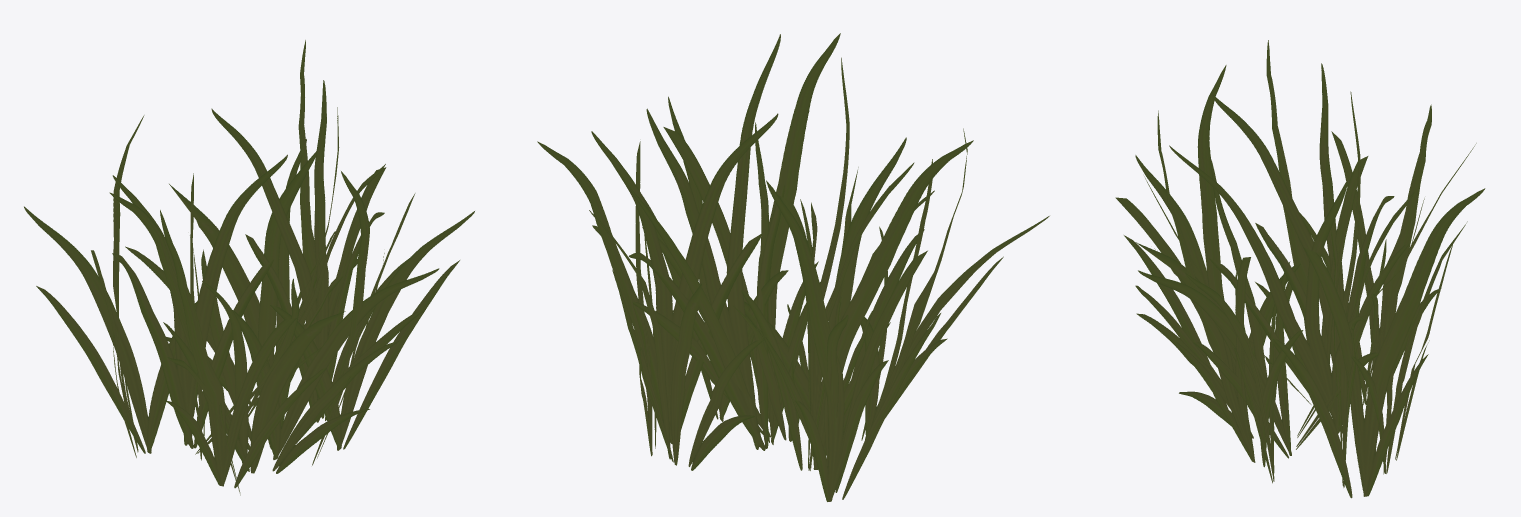
The model's file is MSH_fwOF_Grass_M_1.fbx.
3 views of the same model, side by side, from view 1: azimuth 30°, elevation 25°; view 2: azimuth 150°, elevation 25°; view 3: azimuth 270°, elevation 25° (orthographic). The views are drawn at different scales.
Parts seen in each view (by area): view 1: MSH_fwOF_Grass_M_1; view 2: MSH_fwOF_Grass_M_1; view 3: MSH_fwOF_Grass_M_1.
Part boxes in pixels (box(x1,y1,x2,y2)): MSH_fwOF_Grass_M_1: box(24, 40, 474, 495); MSH_fwOF_Grass_M_1: box(537, 33, 1049, 501); MSH_fwOF_Grass_M_1: box(1115, 40, 1485, 498).
Size of the model in its own units: 0.3905 by 0.3703 by 0.3682.
